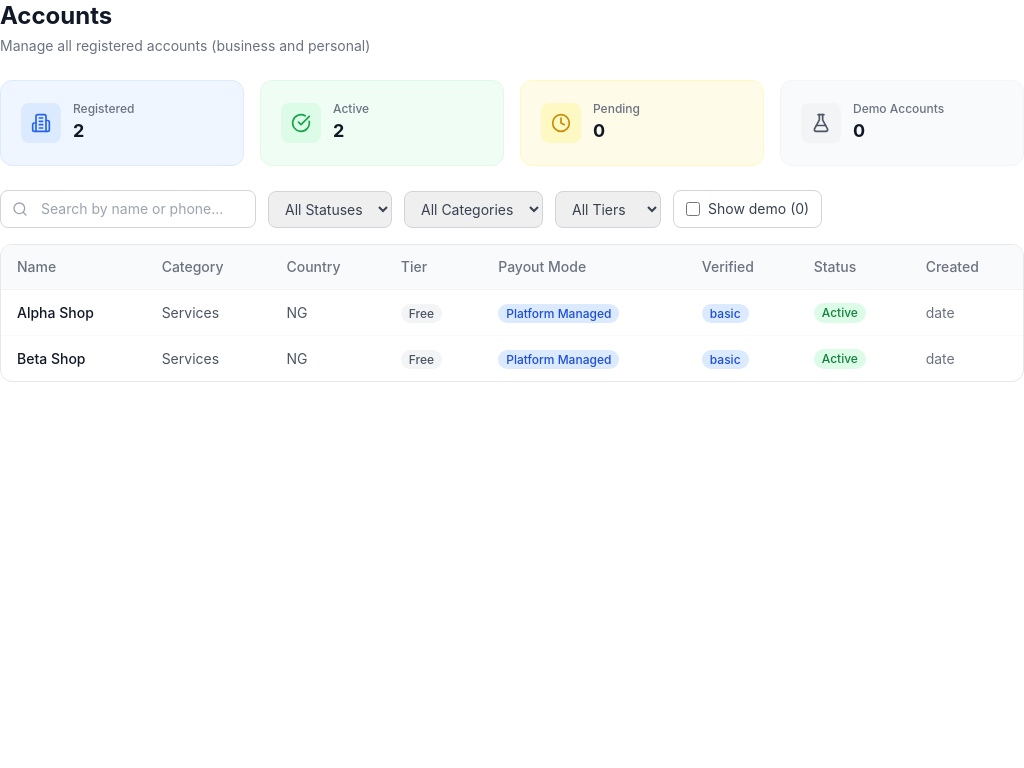
Test case: actual Businesses financial summary › fully refunded-only collections yield zero retained, not a negative double refund
Click the text "Alpha Shop": coordinates (55, 312) [17, 304, 94, 320]
(page scrolled)
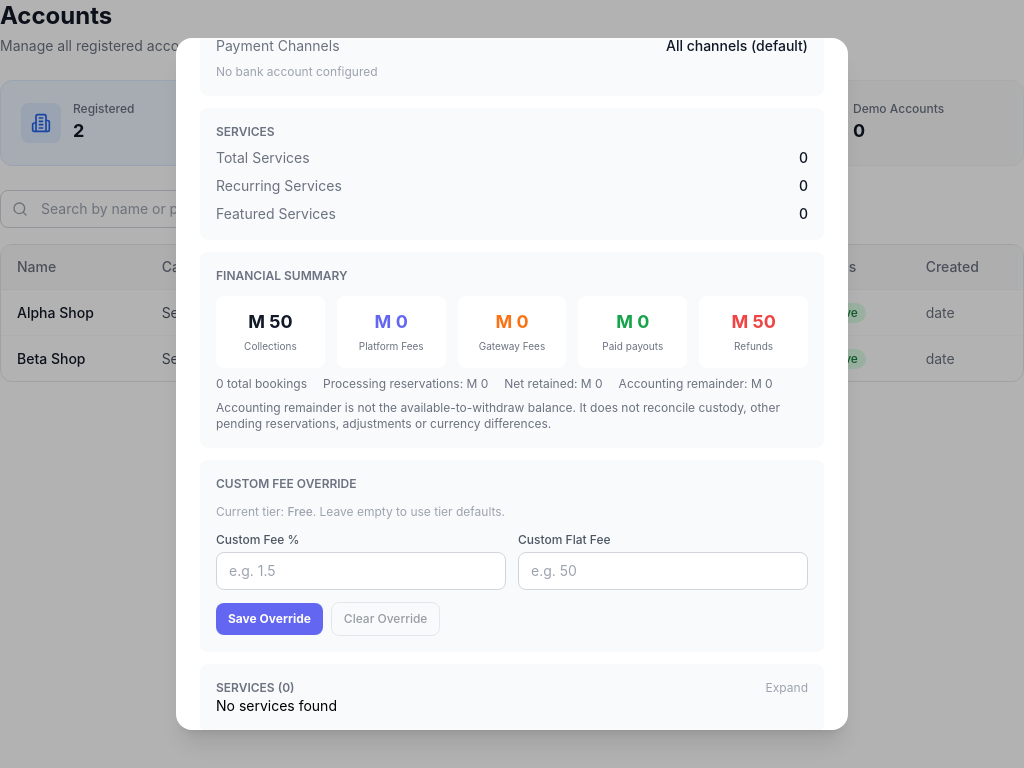
Now the text "Net retained: M 0" is shown, box [504, 376, 603, 392]
Now the text "Accounting remainder: M 0" is shown, box [619, 376, 773, 392]
